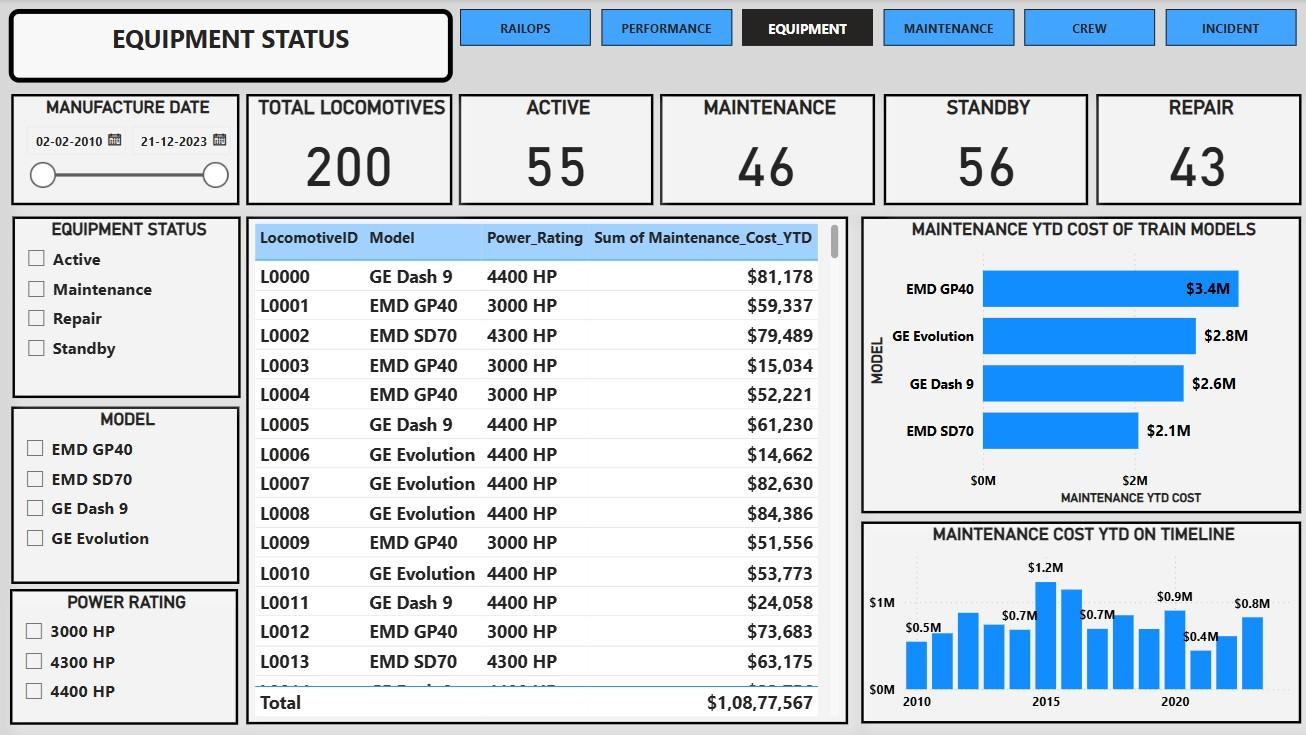

This screenshot's page, from the dashboard's own definition file:
{"tool":"powerbi","page":{"name":"EQUIPMENT","canvas":[1280,720],"ordinal":2},"visuals":[{"type":"textbox","box":[8.4,9.7,434.3,72.4],"z":0},{"type":"slicer","title":"MODEL","fields":{"Values":["Equipment_Master.Model"]},"box":[10.9,398.1,223.2,173.7],"z":1000},{"type":"slicer","title":"MANUFACTURE DATE","fields":{"Values":["Equipment_Master.Manufacture_Date"]},"box":[11.1,92.8,223.3,108.9],"z":2000},{"type":"slicer","title":"EQUIPMENT STATUS","fields":{"Values":["Equipment_Master.Status"]},"box":[12.1,212.3,223.2,177.3],"z":3000},{"type":"card","title":"REPAIR","fields":{"Values":["Equipment_Master.Repair_status"]},"box":[1072.2,92.8,201,108.6],"z":4000},{"type":"card","title":"MAINTENANCE","fields":{"Values":["Equipment_Master.Total_Under_Maintenance_Locomotives"]},"box":[645.5,92.8,210,108.6],"z":5000},{"type":"card","title":"ACTIVE","fields":{"Values":["Equipment_Master.Total_Available_Locomotives"]},"box":[448.8,92.8,190.4,108.6],"z":6000},{"type":"slicer","title":"POWER RATING","fields":{"Values":["Equipment_Master.Power_Rating"]},"box":[9.7,576.7,223.2,132.7],"z":7000},{"type":"barChart","title":"MAINTENANCE YTD COST OF TRAIN MODELS","fields":{"Category":["Equipment_Master.Model"],"Y":["Sum(Equipment_Master.Maintenance_Cost_YTD)"]},"box":[842.1,212.3,430.7,290.8],"z":8000},{"type":"card","title":"STANDBY","fields":{"Values":["Equipment_Master.Standby_status"]},"box":[864.1,92.8,200,108.6],"z":9000},{"type":"tableEx","fields":{"Values":["Equipment_Master.LocomotiveID","Equipment_Master.Model","Equipment_Master.Power_Rating","Sum(Equipment_Master.Maintenance_Cost_YTD)"]},"box":[241.3,212.3,588.7,497.1],"z":10000},{"type":"card","title":"TOTAL LOCOMOTIVES","fields":{"Values":["Equipment_Master.Total Locomotives"]},"box":[241.1,92.8,201.9,108.6],"z":11000},{"type":"columnChart","title":"MAINTENANCE COST YTD ON TIMELINE","fields":{"Category":["Dim_Date.YEAR"],"Y":["Sum(Equipment_Master.Maintenance_Cost_YTD)"]},"box":[842.1,511.5,430.7,197.9],"z":12000},{"type":"pageNavigator","box":[449.5,10.2,823.3,36.4],"z":13000}]}

Visuals, with their boxes in screenshot pixels (x1, y1, x2, y2), scaled from the page's 1280x720 canvas onto the 1306x735 screenshot:
textbox: left=9, top=10, right=452, bottom=84
"MODEL" slicer: left=11, top=406, right=239, bottom=584
"MANUFACTURE DATE" slicer: left=11, top=95, right=239, bottom=206
"EQUIPMENT STATUS" slicer: left=12, top=217, right=240, bottom=398
"REPAIR" card: left=1094, top=95, right=1299, bottom=206
"MAINTENANCE" card: left=659, top=95, right=873, bottom=206
"ACTIVE" card: left=458, top=95, right=652, bottom=206
"POWER RATING" slicer: left=10, top=589, right=238, bottom=724
"MAINTENANCE YTD COST OF TRAIN MODELS" barChart: left=859, top=217, right=1299, bottom=514
"STANDBY" card: left=882, top=95, right=1086, bottom=206
tableEx - Equipment_Master.LocomotiveID x Equipment_Master.Model: left=246, top=217, right=847, bottom=724
"TOTAL LOCOMOTIVES" card: left=246, top=95, right=452, bottom=206
"MAINTENANCE COST YTD ON TIMELINE" columnChart: left=859, top=522, right=1299, bottom=724
pageNavigator: left=459, top=10, right=1299, bottom=48
